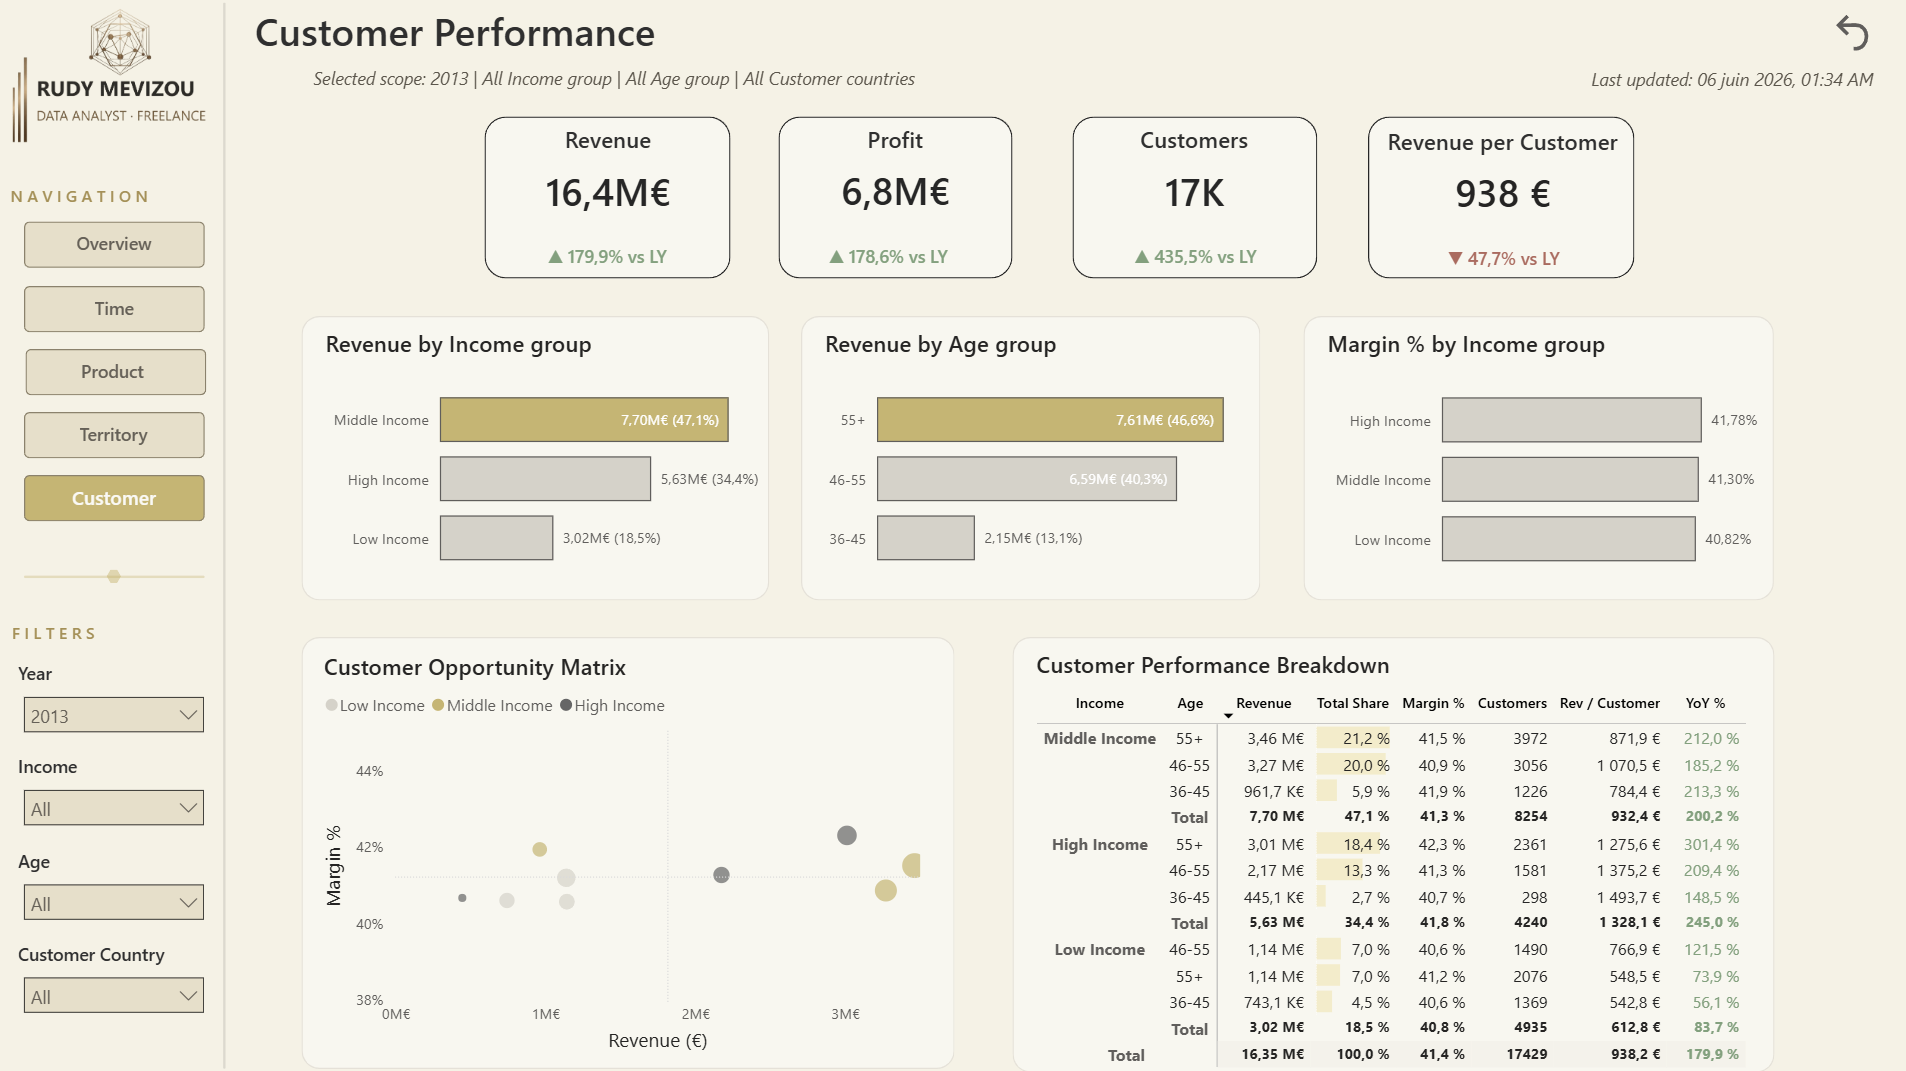

The dashboard page shown, as its layout file describes it:
{"tool":"powerbi","page":{"name":"Customer Performance","canvas":[1600,900],"ordinal":4},"visuals":[{"type":"textbox","box":[213.3,0,501.2,56.2],"z":0,"group":"g22"},{"type":"shape","box":[181.4,4.3,21.4,888.6],"z":0,"group":"g17"},{"type":"shape","box":[654,98.3,195,135],"z":0,"group":"g18"},{"type":"shape","box":[408.7,98.5,205,135],"z":0,"group":"g23"},{"type":"shape","box":[899,98.8,204,135],"z":0,"group":"g8"},{"type":"group","id":"g1","title":"KPI Revenue per customer","box":[1144.5,98.9,222,135],"z":0,"group":"g7"},{"type":"shape","box":[1144.5,98.9,222,135],"z":0,"group":"g1"},{"type":"card","title":"Profit","fields":{"Values":["Mesures.Profit"]},"box":[674.2,104.8,154.5,86.4],"z":0,"group":"g9"},{"type":"card","title":"Revenue","fields":{"Values":["Mesures.Revenue"]},"box":[419.6,105,183.2,88.1],"z":0,"group":"g10"},{"type":"card","title":"Customers","fields":{"Values":["Mesures.Customers"]},"box":[930.8,105.1,140.4,86.7],"z":0,"group":"g11"},{"type":"card","title":"Revenue per Customer","fields":{"Values":["Mesures.Revenue per Customer"]},"box":[1155.8,105.9,202,86.3],"z":0,"group":"g12"},{"type":"shape","box":[25,186.4,150.6,38.6],"z":0,"group":"g26"},{"type":"shape","box":[25.5,239.3,150.6,38.6],"z":0,"group":"g25"},{"type":"shape","box":[256.3,264.4,389.7,237],"z":0,"group":"g19"},{"type":"shape","box":[673,264.4,382.9,237],"z":0,"group":"g13"},{"type":"group","id":"g2","title":"Margin % by Income group","box":[1091,264.4,392,237],"z":0,"group":"g6"},{"type":"shape","box":[1091,264.4,392,237],"z":0,"group":"g2"},{"type":"shape","box":[26.8,292,150.6,38.6],"z":0,"group":"g20"},{"type":"shape","box":[25.5,344.7,150.6,38.6],"z":0,"group":"g14"},{"type":"group","id":"g3","title":"Customer button","box":[25.4,397.5,150.6,38.6],"z":0,"group":"g24"},{"type":"shape","box":[25.4,397.5,150.6,38.6],"z":0,"group":"g3"},{"type":"shape","box":[25,476.5,150.5,12.2],"z":0,"group":"g15"},{"type":"group","id":"g4","title":"05 - Scatter & Table","box":[256,532,1228,367],"z":0},{"type":"shape","box":[256,532,544.3,360],"z":0,"group":"g16"},{"type":"group","id":"g5","title":"Customer Performance Breakdown","box":[849,532,635,367],"z":0,"group":"g4"},{"type":"shape","box":[849,532,635,363],"z":0,"group":"g5"},{"type":"slicer","title":"Customer Country","fields":{"Values":["Customer.Customer Geography.Country"]},"box":[16,786.6,170,62.5],"z":0,"group":"g21"},{"type":"group","id":"g6","title":"04 - Charts customers","box":[256.3,264.4,1226.7,237],"z":500},{"type":"card","fields":{"Values":["Mesures.Last Updated"]},"box":[1321.2,56.2,253.8,27],"z":1000,"group":"g22"},{"type":"group","id":"g7","title":"03 - KPI","box":[408.7,98.3,957.8,135.6],"z":1000},{"type":"group","id":"g8","title":"KPI Customers","box":[899,98.8,204,135],"z":1000,"group":"g7"},{"type":"group","id":"g9","title":"Groupe 9","box":[674.2,104.8,154.5,127.6],"z":1000,"group":"g18"},{"type":"group","id":"g10","title":"Groupe 5","box":[419.6,105,183.2,127.4],"z":1000,"group":"g23"},{"type":"group","id":"g11","title":"Groupe 2","box":[929,105.1,144,128],"z":1000,"group":"g8"},{"type":"group","id":"g12","title":"Groupe 6","box":[1155.8,105.9,202,127.4],"z":1000,"group":"g1"},{"type":"textbox","box":[63.8,188.9,73,33],"z":1000,"group":"g26"},{"type":"card","fields":{"Values":["Mesures.Revenue YoY Label"]},"box":[441.3,202.4,138.9,30],"z":1000,"group":"g10"},{"type":"card","fields":{"Values":["Mesures.Profit YoY Label"]},"box":[677.1,202.4,137.1,30],"z":1000,"group":"g9"},{"type":"card","fields":{"Values":["Mesures.Customers YoY Label"]},"box":[929,203,144,30.1],"z":1000,"group":"g11"},{"type":"card","fields":{"Values":["Mesures.Revenue per Customer YoY Label"]},"box":[1187.8,203.2,138,30.1],"z":1000,"group":"g12"},{"type":"textbox","box":[79.1,242.3,43.5,32.6],"z":1000,"group":"g25"},{"type":"group","id":"g13","title":"Revenue by Age group","box":[673,264.4,390,237],"z":1000,"group":"g6"},{"type":"clusteredBarChart","title":"Revenue by Income group","fields":{"Category":["Customer.IncomeGroup"],"Y":["Mesures.Revenue"]},"box":[271,274,375,220],"z":1000,"group":"g19"},{"type":"clusteredBarChart","title":"Revenue by Age group","fields":{"Category":["Customer.AgeGroup"],"Y":["Mesures.Product Revenue Display"]},"box":[688,274,375,220],"z":1000,"group":"g13"},{"type":"clusteredBarChart","title":"Margin % by Income group","fields":{"Y":["Mesures.Margin %"],"Category":["Customer.IncomeGroup"]},"box":[1106,274,375,221],"z":1000,"group":"g2"},{"type":"textbox","box":[67.5,295,69.1,32.2],"z":1000,"group":"g20"},{"type":"group","id":"g14","title":"Territory button","box":[25.5,344.7,150.6,38.6],"z":1000,"group":"g24"},{"type":"textbox","box":[67.3,347.7,67,32.6],"z":1000,"group":"g14"},{"type":"textbox","box":[60,399.5,80,32.4],"z":1000,"group":"g3"},{"type":"group","id":"g15","title":"Separator Line","box":[25,476.5,150.5,12.2],"z":1000,"group":"g17"},{"type":"shape","box":[94.1,476.5,12.2,11.3],"z":1000,"group":"g15"},{"type":"group","id":"g16","title":"Customer Opportunity Matrix","box":[256,532,544.3,360],"z":1000,"group":"g4"},{"type":"pivotTable","title":"Customer Performance Breakdown","fields":{"Values":["Mesures.Revenue Display Product","Mesures.Revenue Share Customer Segment","Mesures.Margin %","Mesures.Customers","Mesures.Revenue per Customer","Mesures.Revenue YoY % Clean"],"Rows":["Customer.IncomeGroup","Customer.AgeGroup"]},"box":[864,542.1,602,356.9],"z":1000,"group":"g5"},{"type":"scatterChart","title":"Customer Opportunity Matrix","fields":{"X":["Mesures.Revenue"],"Y":["Mesures.Margin %"],"Size":["Mesures.Customers"],"Series":["Customer.IncomeGroup"],"Category":["Customer.AgeGroup"]},"box":[270,543.2,518.5,339.4],"z":1000,"group":"g16"},{"type":"slicer","title":"Age","fields":{"Values":["Customer.AgeGroup"]},"box":[16,708.3,170,62.5],"z":1000,"group":"g21"},{"type":"group","id":"g17","title":"02 - Sidebar","box":[0,0,202.9,892.9],"z":2000},{"type":"group","id":"g18","title":"KPI Profit","box":[654,98.3,195,135],"z":2000,"group":"g7"},{"type":"group","id":"g19","title":"Revenue by Income group","box":[256.3,264.4,389.7,237],"z":2000,"group":"g6"},{"type":"group","id":"g20","title":"Product button","box":[26.8,292,150.6,38.6],"z":2000,"group":"g24"},{"type":"group","id":"g21","title":"Filters label","box":[10.5,513.7,175.5,335.4],"z":2000,"group":"g17"},{"type":"slicer","title":"Income","fields":{"Values":["Customer.IncomeGroup"]},"box":[16,630.4,170,62],"z":2000,"group":"g21"},{"type":"group","id":"g22","title":"01 - Header","box":[212.9,0,1365.8,83.2],"z":3000},{"type":"actionButton","box":[1528.7,8.8,50,40],"z":3000,"group":"g22"},{"type":"group","id":"g23","title":"KPI Revenue","box":[408.7,98.5,205,135],"z":3000,"group":"g7"},{"type":"group","id":"g24","title":"Navigation label","box":[8.9,149.8,168.5,286.2],"z":3000,"group":"g17"},{"type":"group","id":"g25","title":"Time button","box":[25.5,239.3,150.6,38.6],"z":3000,"group":"g24"},{"type":"slicer","title":"Year","fields":{"Values":["Date.CalendarYear Hiérarchie.CalendarYear"]},"box":[16,551.8,170,62.8],"z":3000,"group":"g21"},{"type":"image","title":"Logo","box":[0,0,201.7,136.7],"z":4000,"group":"g17"},{"type":"card","fields":{"Values":["Mesures.Selection Summary Customer"]},"box":[212.9,55,608,28.2],"z":4000,"group":"g22"},{"type":"group","id":"g26","title":"Overview button","box":[25,186.4,150.6,38.6],"z":4000,"group":"g24"},{"type":"textbox","title":"Filters text","box":[10.5,513.7,136.4,36.4],"z":4000,"group":"g21"},{"type":"textbox","title":"Navigation text","box":[8.9,149.8,145.6,36],"z":5000,"group":"g24"}]}

Visuals, with their boxes on the page's 1600x900 design canvas (x1, y1, x2, y2). These are canvas units, not pixel positions in the 1906x1071 screenshot, which may show the page scaled, cropped or inside an application window:
textbox: 213/0/714/56
shape: 181/4/203/893
shape: 654/98/849/233
shape: 409/98/614/234
shape: 899/99/1103/234
"KPI Revenue per customer" group: 1144/99/1366/234
shape: 1144/99/1366/234
"Profit" card: 674/105/829/191
"Revenue" card: 420/105/603/193
"Customers" card: 931/105/1071/192
"Revenue per Customer" card: 1156/106/1358/192
shape: 25/186/176/225
shape: 26/239/176/278
shape: 256/264/646/501
shape: 673/264/1056/501
"Margin % by Income group" group: 1091/264/1483/501
shape: 1091/264/1483/501
shape: 27/292/177/331
shape: 26/345/176/383
"Customer button" group: 25/398/176/436
shape: 25/398/176/436
shape: 25/476/176/489
"05 - Scatter & Table" group: 256/532/1484/899
shape: 256/532/800/892
"Customer Performance Breakdown" group: 849/532/1484/899
shape: 849/532/1484/895
"Customer Country" slicer: 16/787/186/849
"04 - Charts customers" group: 256/264/1483/501
card - Mesures.Last Updated: 1321/56/1575/83
"03 - KPI" group: 409/98/1366/234
"KPI Customers" group: 899/99/1103/234
"Groupe 9" group: 674/105/829/232
"Groupe 5" group: 420/105/603/232
"Groupe 2" group: 929/105/1073/233
"Groupe 6" group: 1156/106/1358/233
textbox: 64/189/137/222
card - Mesures.Revenue YoY Label: 441/202/580/232
card - Mesures.Profit YoY Label: 677/202/814/232
card - Mesures.Customers YoY Label: 929/203/1073/233
card - Mesures.Revenue per Customer YoY Label: 1188/203/1326/233
textbox: 79/242/123/275
"Revenue by Age group" group: 673/264/1063/501
"Revenue by Income group" clusteredBarChart: 271/274/646/494
"Revenue by Age group" clusteredBarChart: 688/274/1063/494
"Margin % by Income group" clusteredBarChart: 1106/274/1481/495
textbox: 68/295/137/327
"Territory button" group: 26/345/176/383
textbox: 67/348/134/380
textbox: 60/400/140/432
"Separator Line" group: 25/476/176/489
shape: 94/476/106/488
"Customer Opportunity Matrix" group: 256/532/800/892
"Customer Performance Breakdown" pivotTable: 864/542/1466/899
"Customer Opportunity Matrix" scatterChart: 270/543/788/883
"Age" slicer: 16/708/186/771
"02 - Sidebar" group: 0/0/203/893
"KPI Profit" group: 654/98/849/233
"Revenue by Income group" group: 256/264/646/501
"Product button" group: 27/292/177/331
"Filters label" group: 10/514/186/849
"Income" slicer: 16/630/186/692
"01 - Header" group: 213/0/1579/83
actionButton: 1529/9/1579/49
"KPI Revenue" group: 409/98/614/234
"Navigation label" group: 9/150/177/436
"Time button" group: 26/239/176/278
"Year" slicer: 16/552/186/615
"Logo" image: 0/0/202/137
card - Mesures.Selection Summary Customer: 213/55/821/83
"Overview button" group: 25/186/176/225
"Filters text" textbox: 10/514/147/550
"Navigation text" textbox: 9/150/154/186
